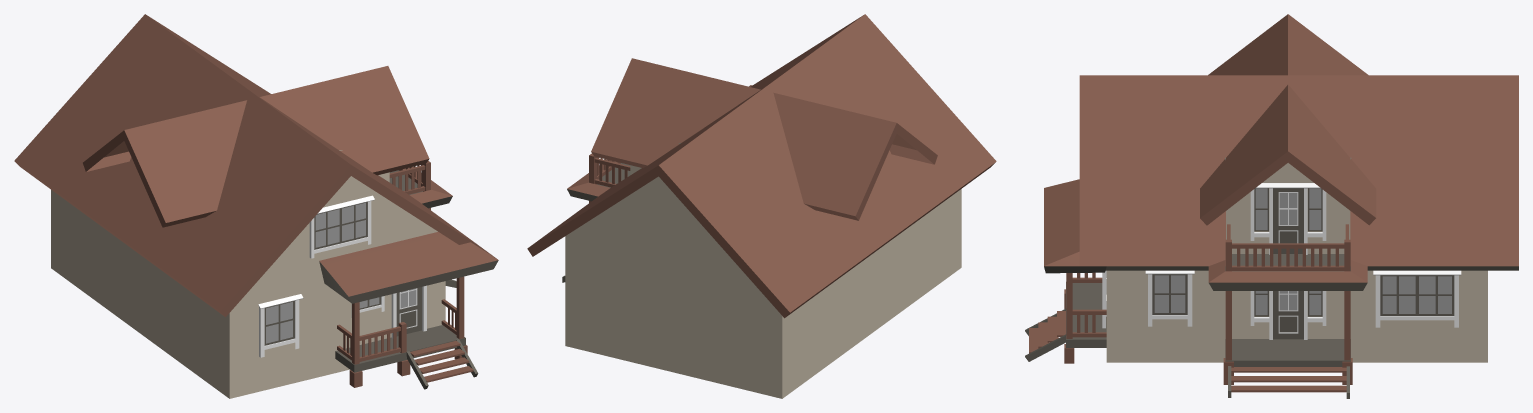
Rendered from HouseChan.fbx.
The picture shows the model from 3 angles, left to right: view 1: azimuth 30°, elevation 25°; view 2: azimuth 150°, elevation 25°; view 3: azimuth 270°, elevation 25°; orthographic projection. The views are drawn at different scales.
Parts seen in each view (by area): view 1: HouseChan; view 2: HouseChan; view 3: HouseChan.
Boxes of the visible parts, bbox=[...] form: HouseChan: bbox=[14, 14, 498, 398]; HouseChan: bbox=[527, 14, 996, 398]; HouseChan: bbox=[1025, 14, 1518, 398].
Size of the model in its own units: 21.82 by 14.94 by 28.59.
